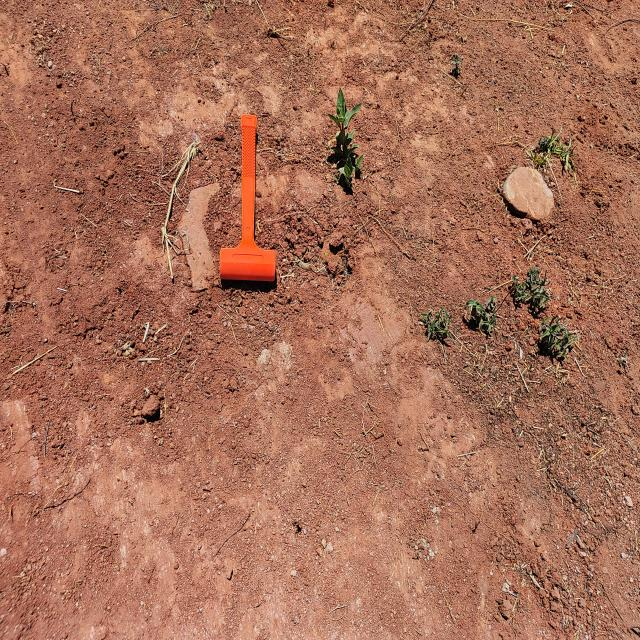Orange_hammer: (218, 113, 276, 285)
